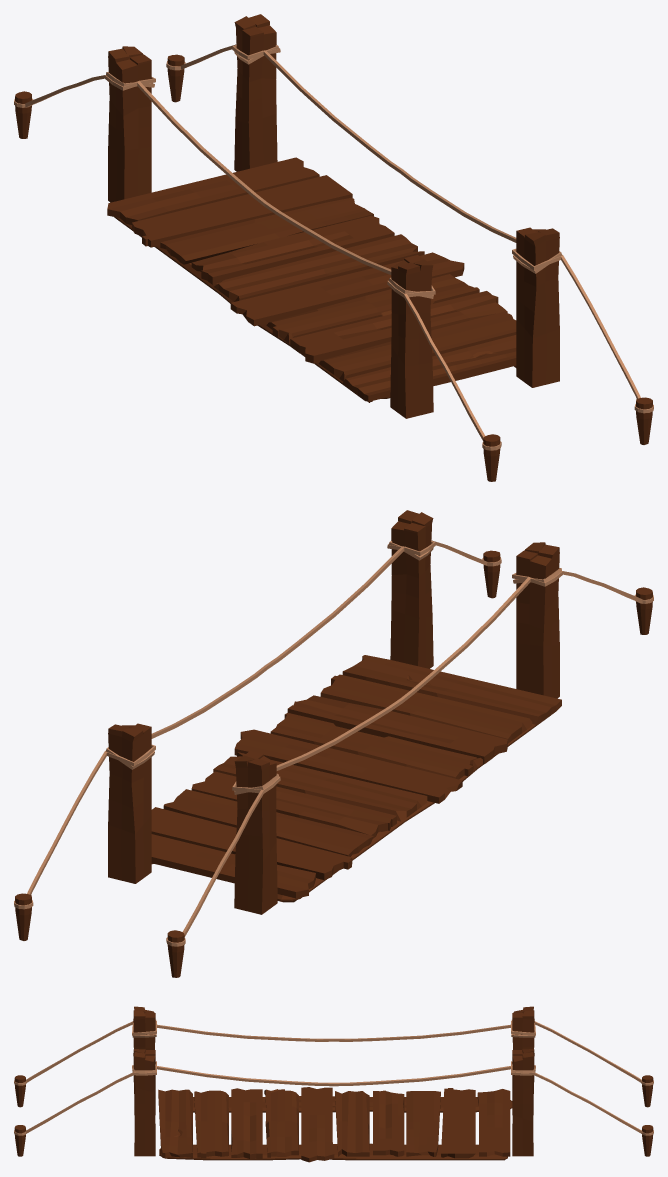
The model's file is bridge.obj.
The picture shows the model from 3 angles, top to bottom: view 1: azimuth 30°, elevation 25°; view 2: azimuth 150°, elevation 25°; view 3: azimuth 270°, elevation 25°; orthographic projection. The views are drawn at different scales.
Parts seen in each view (by area): view 1: Cube.024_Cube.034; view 2: Cube.024_Cube.034; view 3: Cube.024_Cube.034.
Boxes of the visible parts, left/top/right/bottom form: Cube.024_Cube.034: left=14, top=14, right=653, bottom=481; Cube.024_Cube.034: left=14, top=510, right=653, bottom=977; Cube.024_Cube.034: left=14, top=1006, right=653, bottom=1162.
Bounding box in the file's own units: 5.69 × 3.75 × 21.61.
